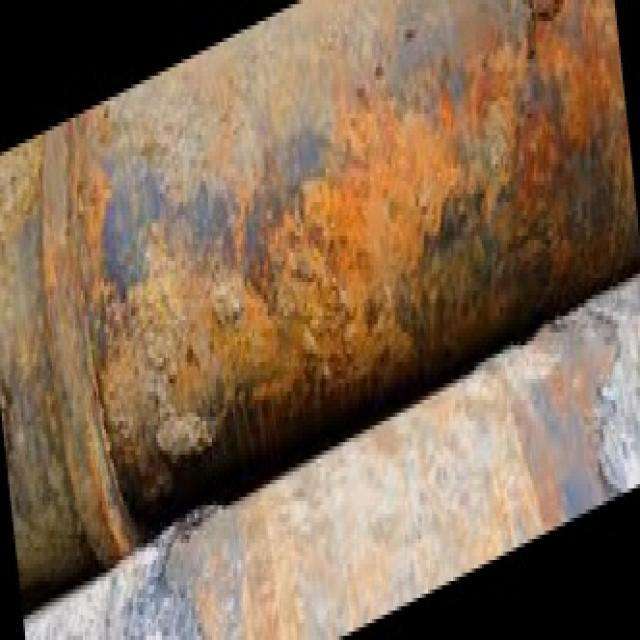rust: (0, 0, 638, 615)
